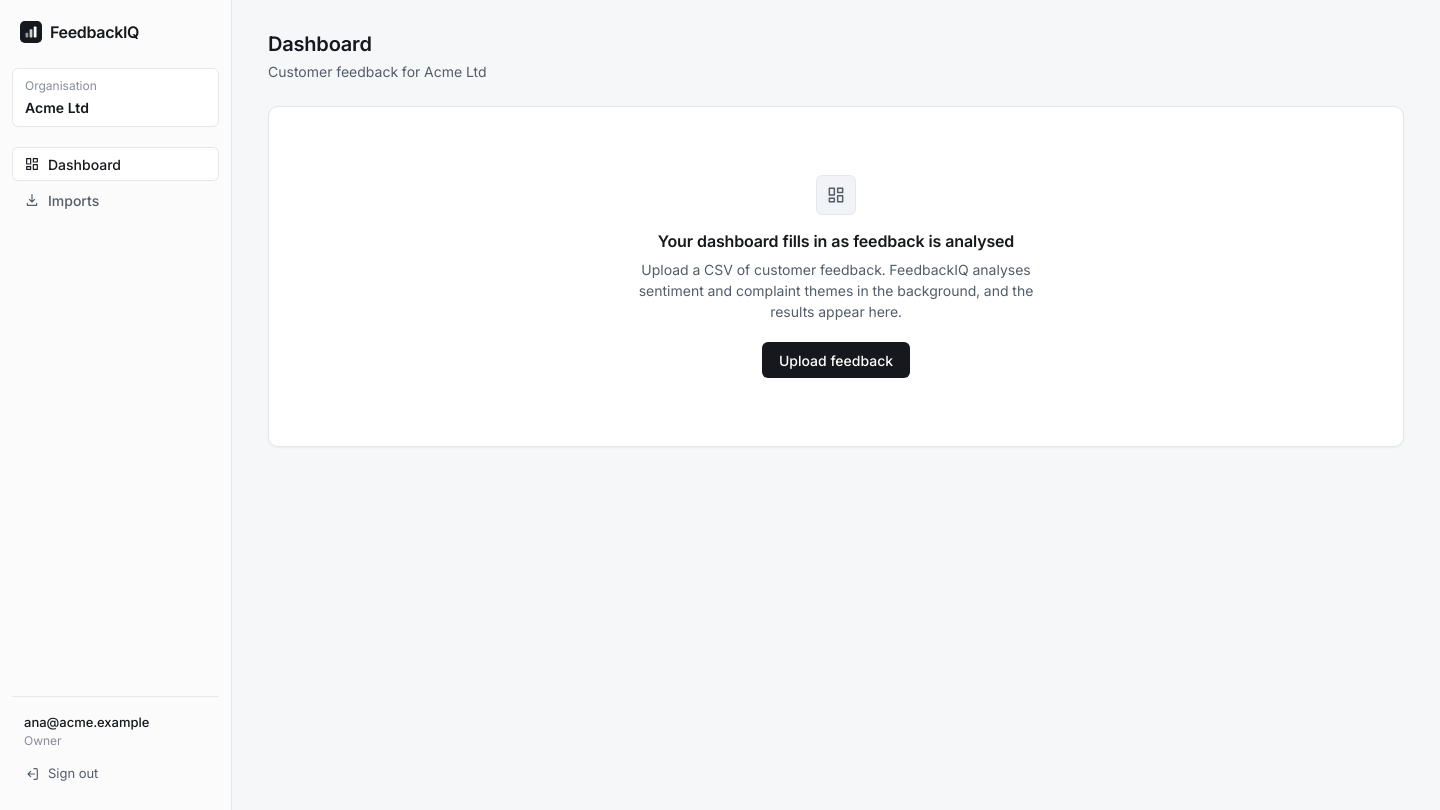
Test: signing out › stays signed in, and says so, if the server could not sign out
Click the button "Sign out".
click(116, 774)  # box [12,758,219,790]
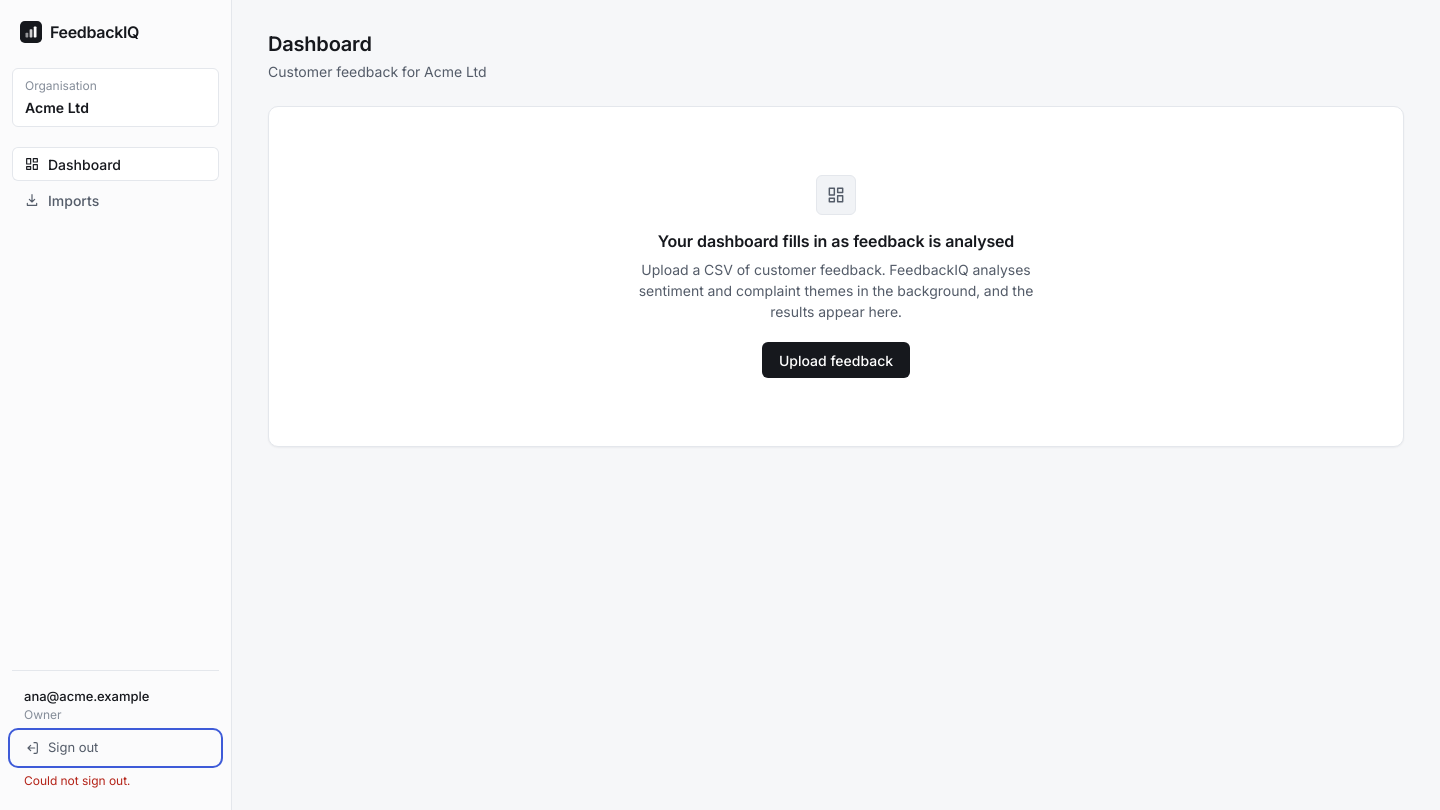
Expected: the heading "Dashboard" is shown, [268,32,372,56]
Expected: the message reads "Could not sign out.", [24,773,130,788]
